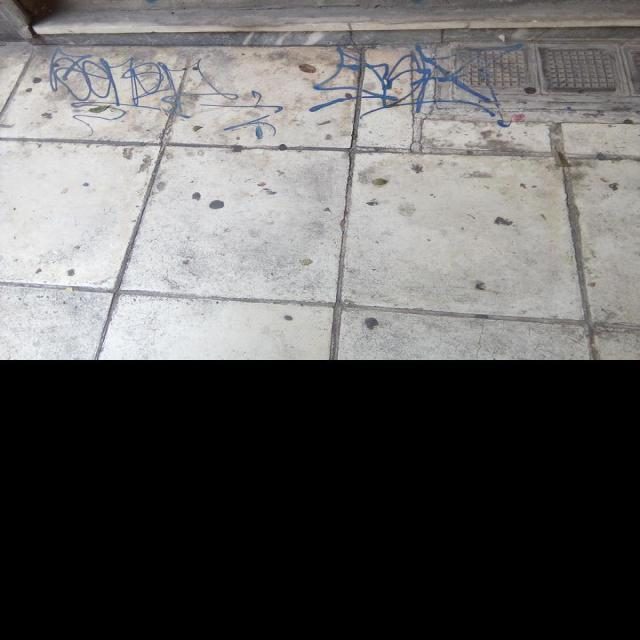nonspitting: (48, 48, 285, 137), (308, 44, 512, 128)
